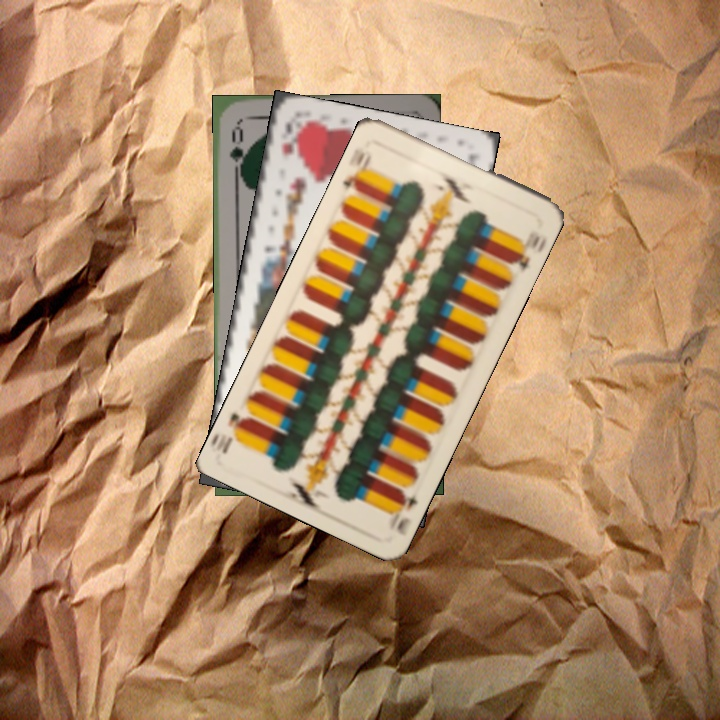E10: (338, 146, 375, 195), (391, 482, 423, 538)
GO: (226, 120, 247, 179)
HK: (277, 118, 303, 159)
